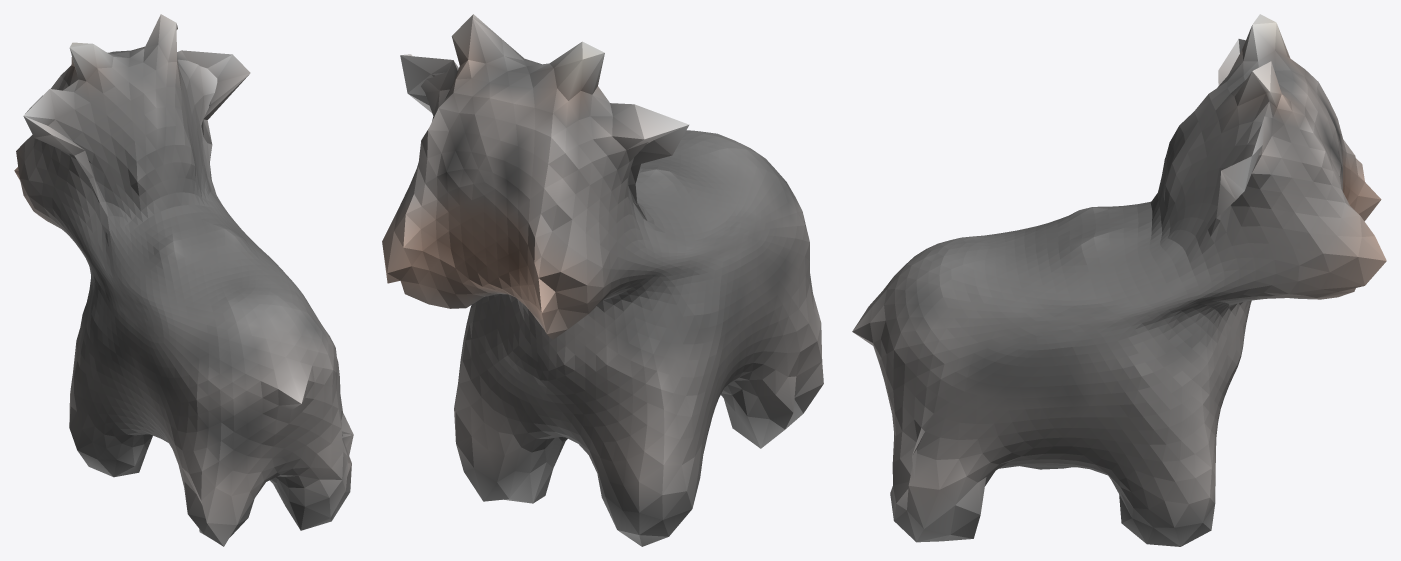
Rendered from colored_mesh_iter_0800.obj.
3 renders of one model, left to right at view 1: azimuth 30°, elevation 25°; view 2: azimuth 150°, elevation 25°; view 3: azimuth 270°, elevation 25°, orthographic. The views are drawn at different scales.
Size of the model in its own units: 1.12 by 2 by 2.01.
